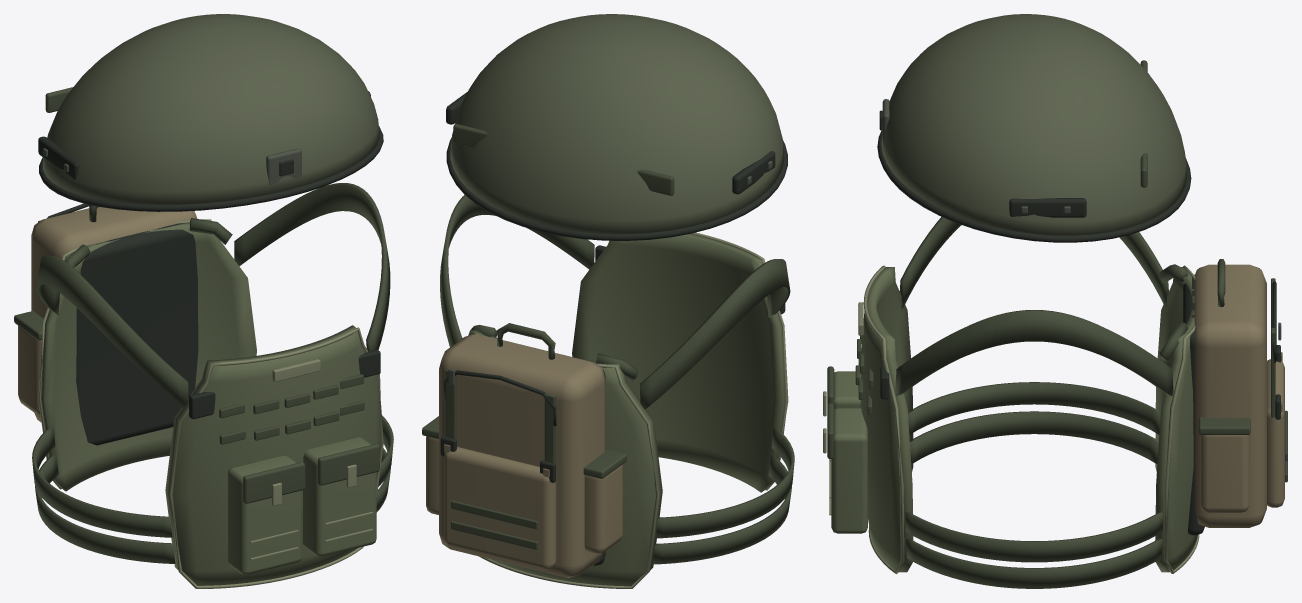
File: goose-equipment-only.glb
3 views of the same model, side by side, from view 1: azimuth 30°, elevation 25°; view 2: azimuth 150°, elevation 25°; view 3: azimuth 270°, elevation 25° (orthographic). The views are drawn at different scales.
Parts seen in each view (by area): view 1: goose_vest_field_mesh, goose_helmet_field_mesh, goose_pack_field_mesh; view 2: goose_helmet_field_mesh, goose_vest_field_mesh, goose_pack_field_mesh; view 3: goose_vest_field_mesh, goose_helmet_field_mesh, goose_pack_field_mesh.
Boxes of the visible parts, left/top/right/bottom form: goose_vest_field_mesh: left=32, top=183, right=393, bottom=588; goose_helmet_field_mesh: left=38, top=14, right=383, bottom=211; goose_pack_field_mesh: left=14, top=203, right=232, bottom=445; goose_helmet_field_mesh: left=446, top=14, right=787, bottom=240; goose_vest_field_mesh: left=440, top=195, right=794, bottom=588; goose_pack_field_mesh: left=422, top=323, right=638, bottom=577; goose_vest_field_mesh: left=823, top=217, right=1199, bottom=588; goose_helmet_field_mesh: left=877, top=14, right=1191, bottom=242; goose_pack_field_mesh: left=1159, top=259, right=1287, bottom=535.
Size of the model in its own units: 0.9802 by 1.42 by 1.2.
